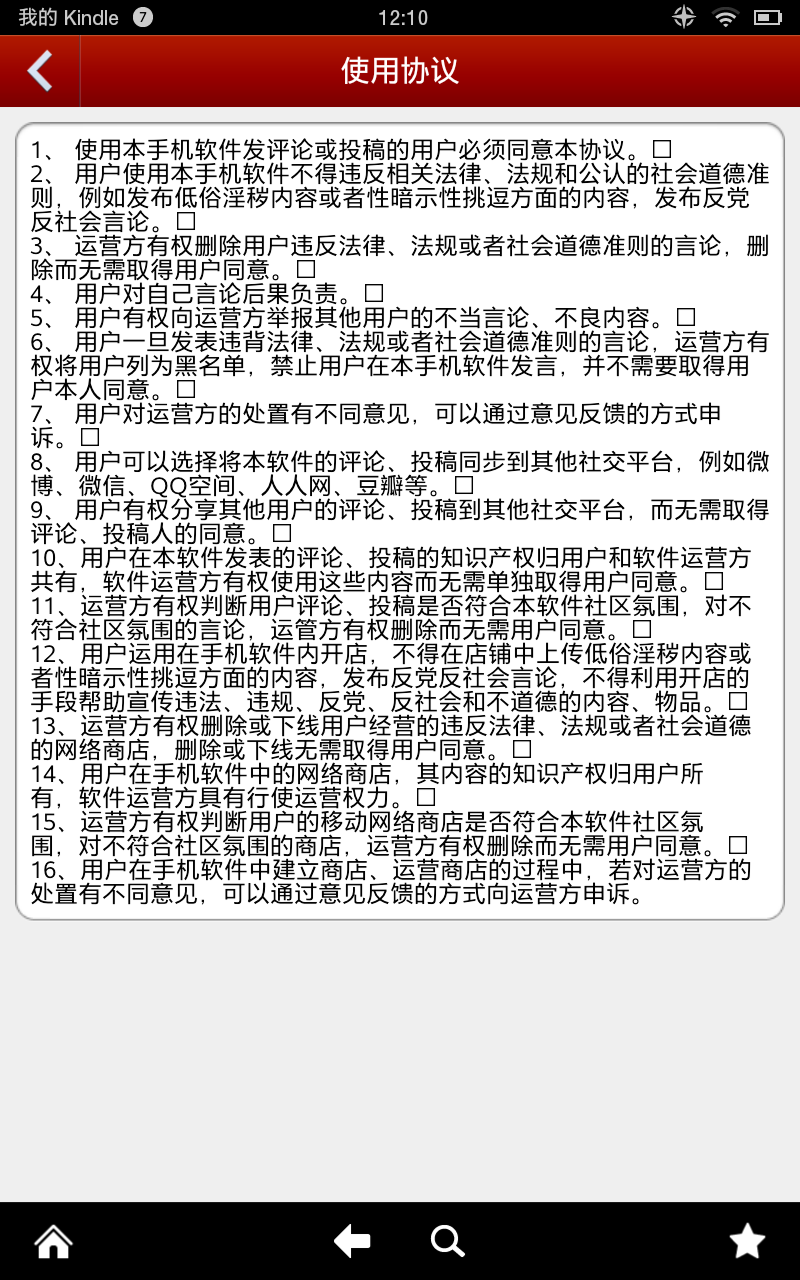textview: (18, 131, 776, 927)
